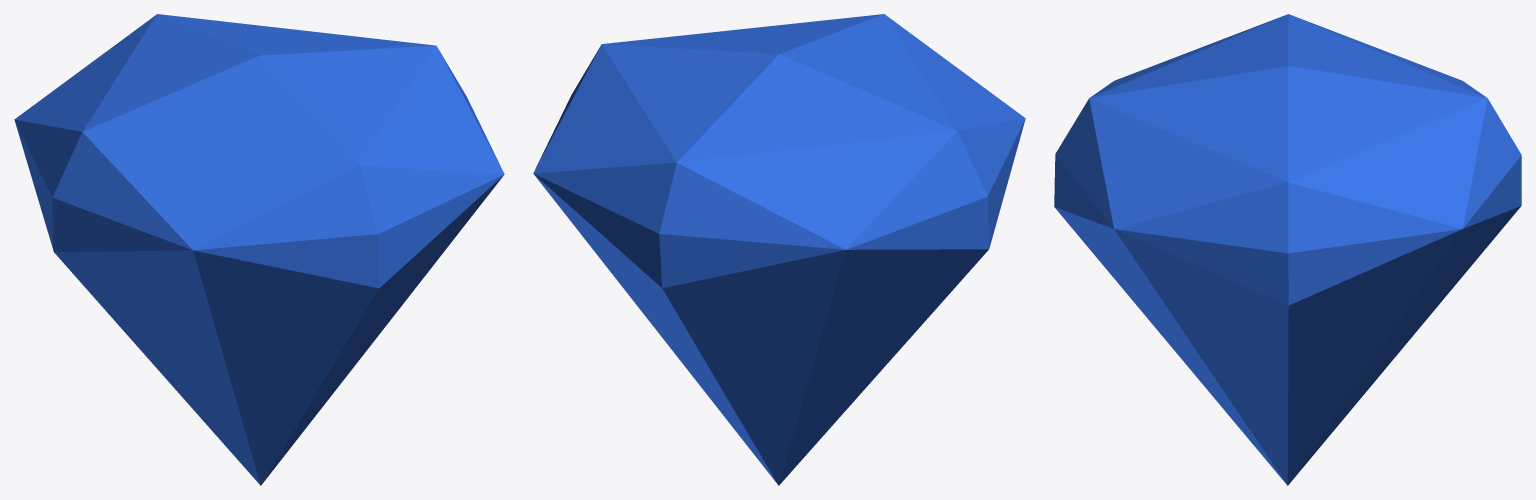
Rendered from crystal.fbx.
3 renders of one model, left to right at view 1: azimuth 30°, elevation 25°; view 2: azimuth 150°, elevation 25°; view 3: azimuth 270°, elevation 25°, orthographic. The views are drawn at different scales.
Parts seen in each view (by area): view 1: Cube; view 2: Cube; view 3: Cube.
Part boxes in pixels (x1,y1,x2,y2): Cube: (14,14,504,485); Cube: (533,14,1025,485); Cube: (1054,14,1521,485).
Bounding box in the file's own units: 30 × 29.77 × 30.06.
